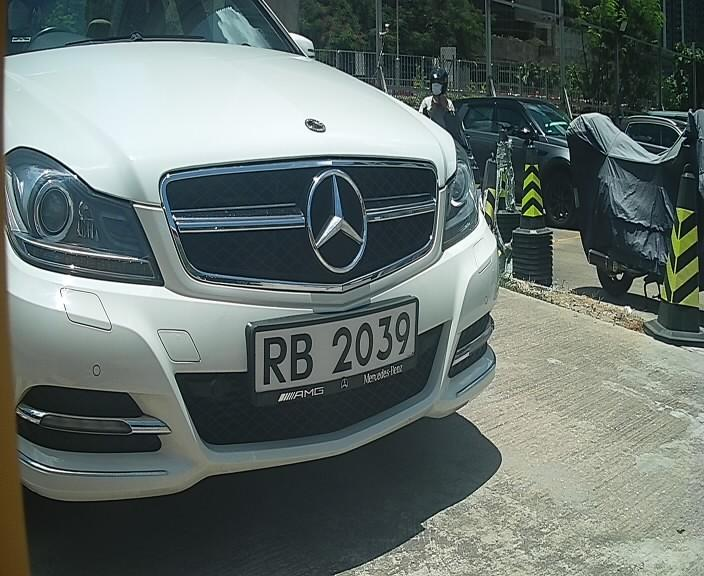License Plate: (243, 296, 422, 397)
